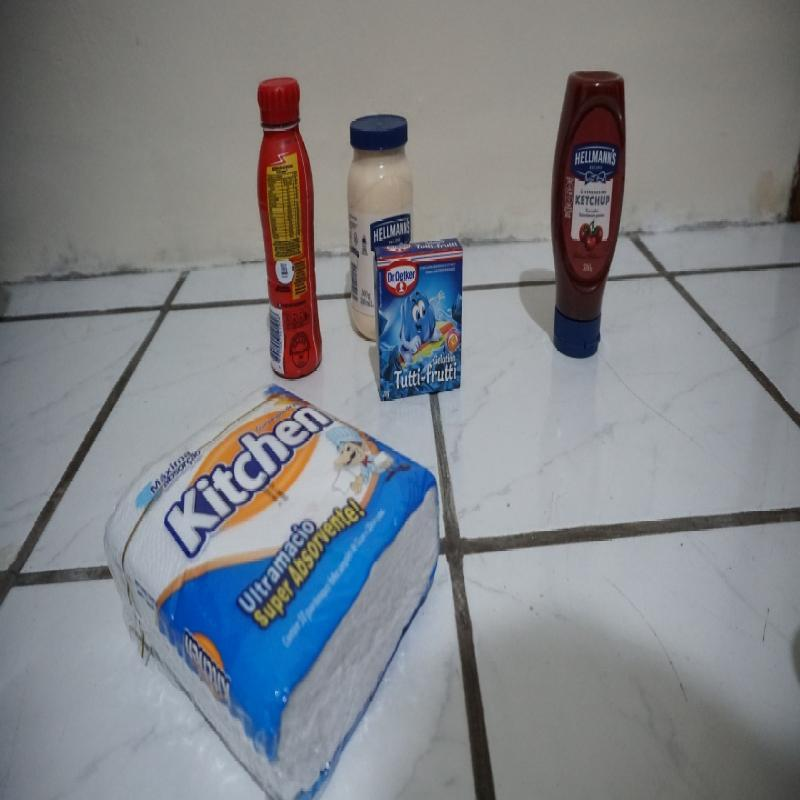Chocolate Milk: (254, 75, 322, 382)
Gelatine: (376, 234, 465, 400)
Ketchup: (548, 68, 627, 359)
Mayonnaise: (346, 115, 414, 338)
Napkin: (104, 383, 444, 799)
